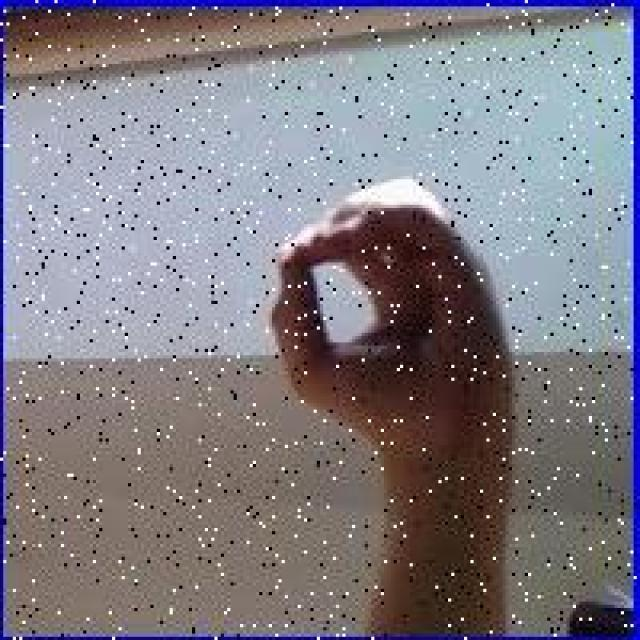O: (261, 174, 523, 460)
